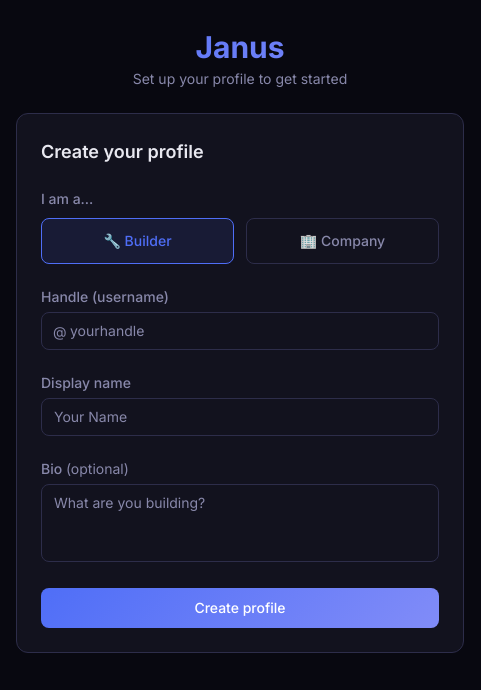
ProfileSetupPage › shows min-length error for short handle on submit
Step 1. Type "ab" into the field labelled "Handle (username)" → [240, 331], box left=41, top=312, right=439, bottom=350
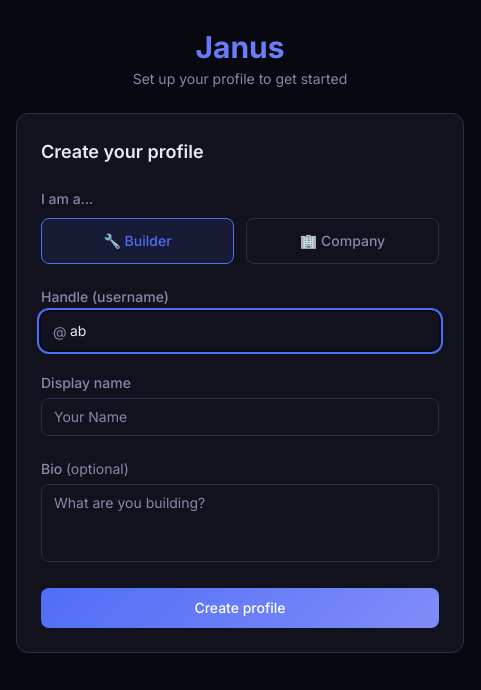
Step 2. Click the button "Create profile" → [240, 608], box left=41, top=588, right=439, bottom=628
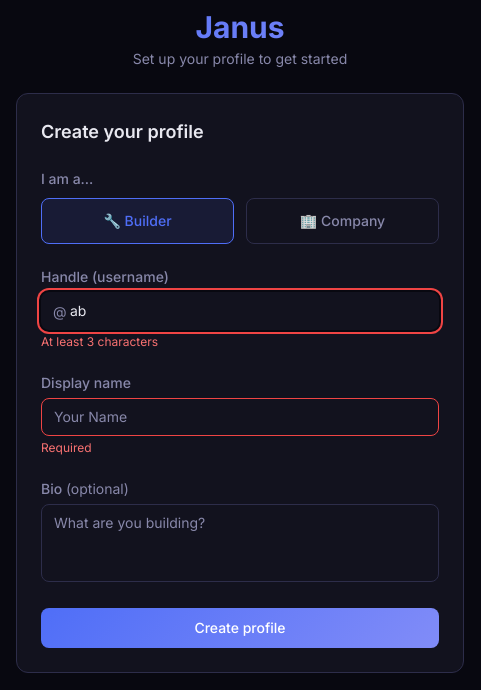
Result: the text "At least 3 characters" is shown at left=41, top=334, right=158, bottom=349
